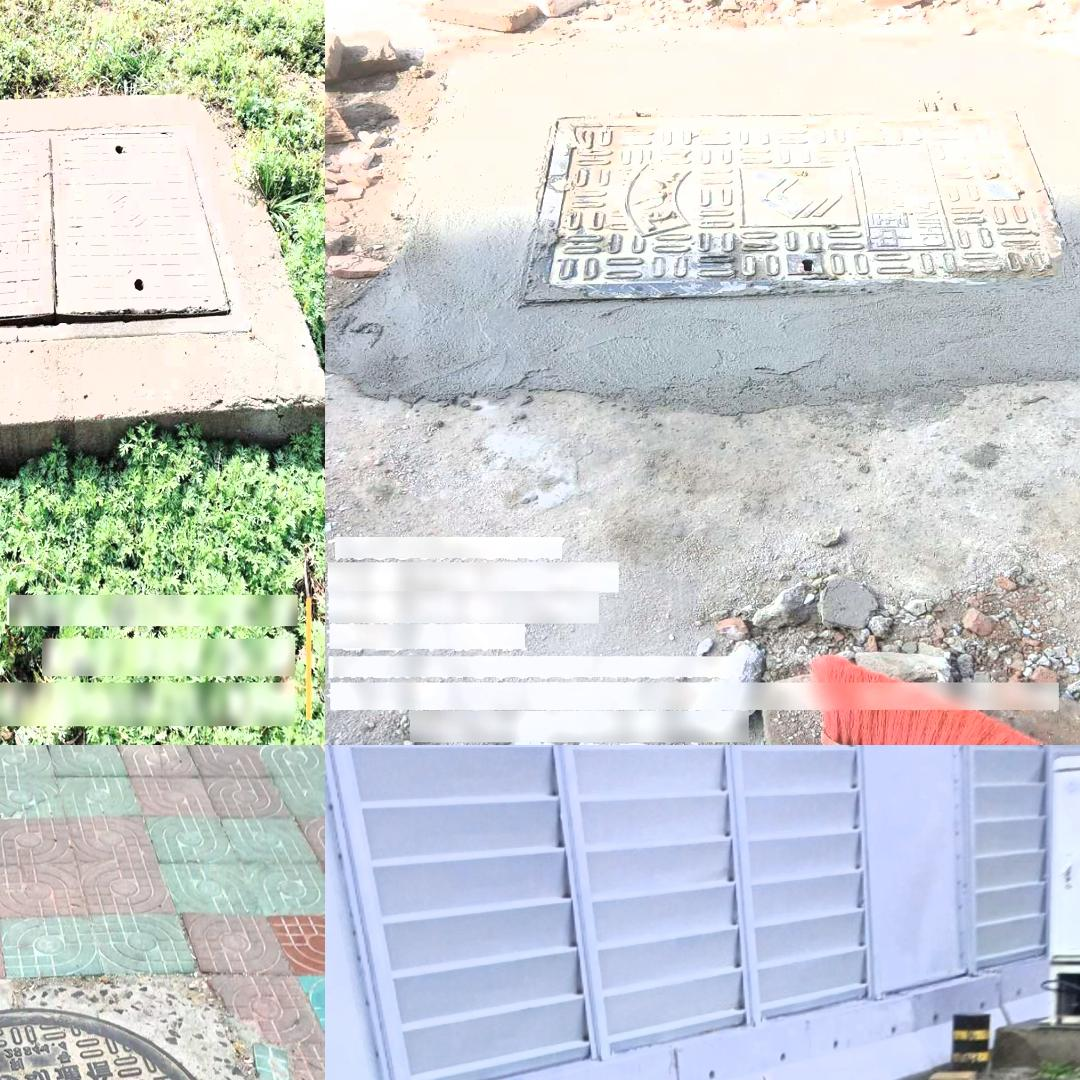good: (521, 102, 1076, 302), (0, 104, 213, 352), (0, 1005, 264, 1080)
